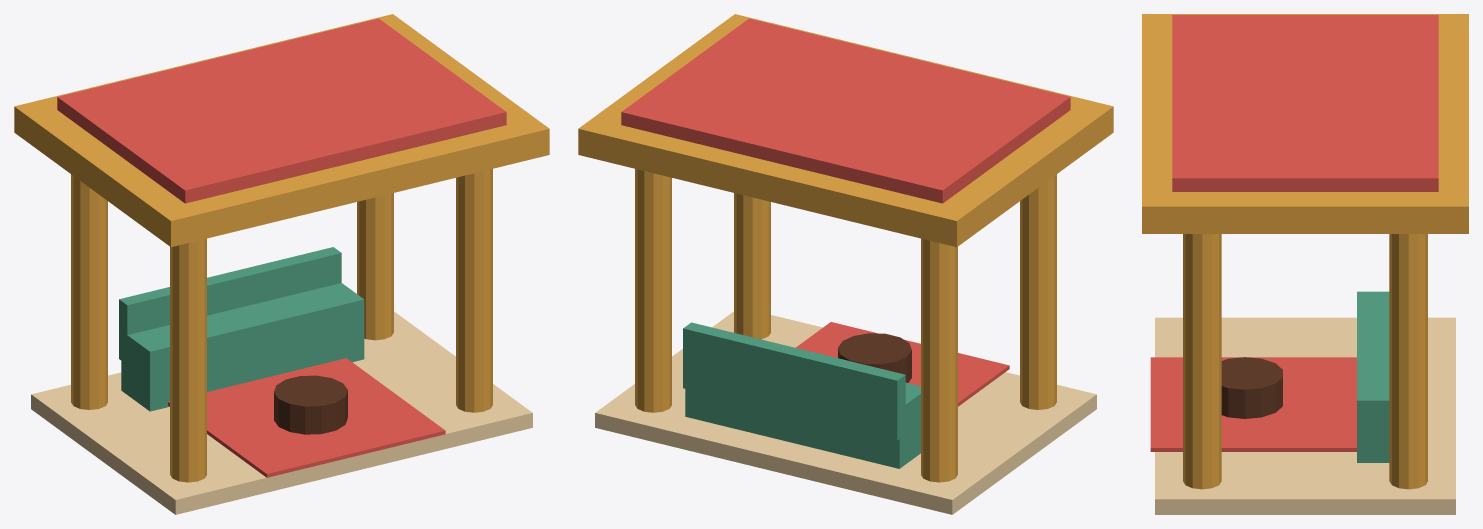
File: ParkParkLandmarkLounge.obj
The picture shows the model from 3 angles, left to right: view 1: azimuth 30°, elevation 25°; view 2: azimuth 150°, elevation 25°; view 3: azimuth 270°, elevation 25°; orthographic projection. The views are drawn at different scales.
Parts seen in each view (by area): view 1: ParkParkLandmarkLounge; view 2: ParkParkLandmarkLounge; view 3: ParkParkLandmarkLounge.
Part boxes in pixels (left/top/right/bottom): ParkParkLandmarkLounge: left=14, top=14, right=549, bottom=514; ParkParkLandmarkLounge: left=578, top=14, right=1113, bottom=514; ParkParkLandmarkLounge: left=1142, top=14, right=1468, bottom=514.
Size of the model in its own units: 10.6 by 8.4 by 7.6.
